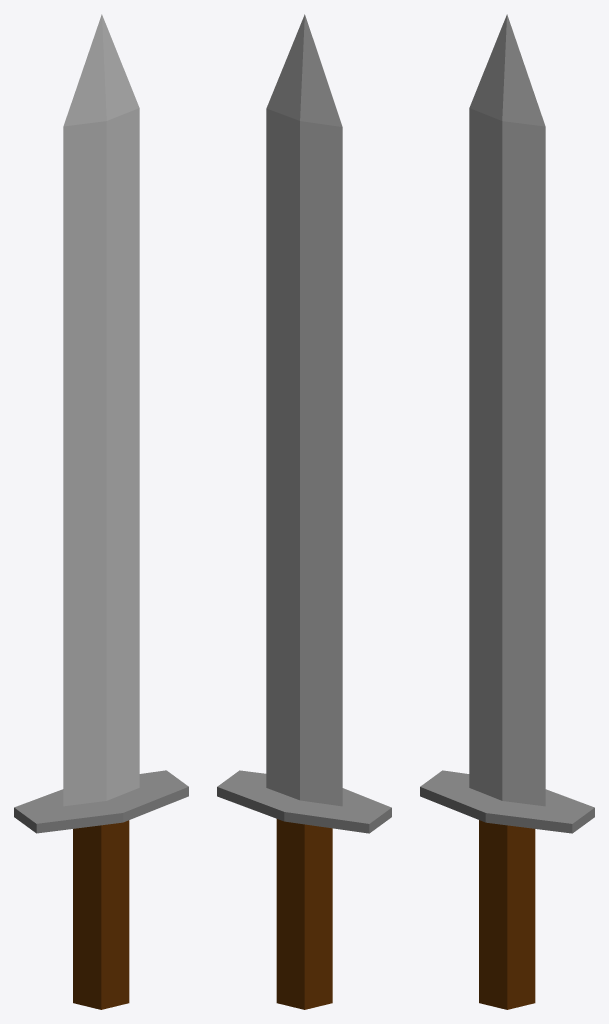
Rendered from IronSwprd.dae.
3 renders of one model, left to right at view 1: azimuth 30°, elevation 25°; view 2: azimuth 150°, elevation 25°; view 3: azimuth 330°, elevation 25°, orthographic.
Parts seen in each view (by area): view 1: SketchUp (×3); view 2: SketchUp (×3); view 3: SketchUp (×3).
Part boxes in pixels (x1,y1,x2,y2): SketchUp (×3): [14, 14, 188, 1009]; SketchUp (×3): [217, 14, 391, 1009]; SketchUp (×3): [420, 14, 594, 1009].
Size of the model in its own units: 55.97 by 26.59 by 345.
